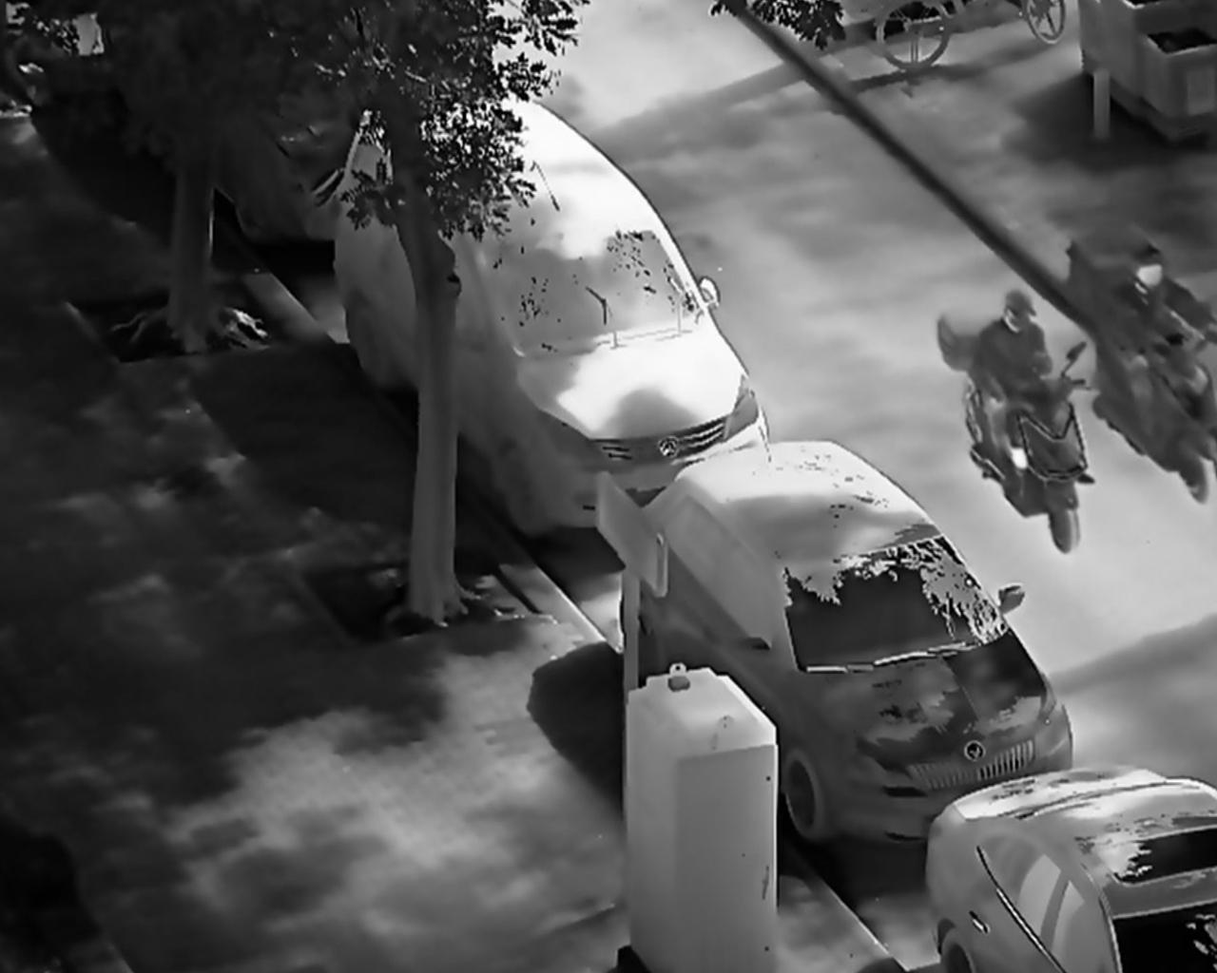person: (1108, 242, 1217, 437), (967, 285, 1072, 473)
